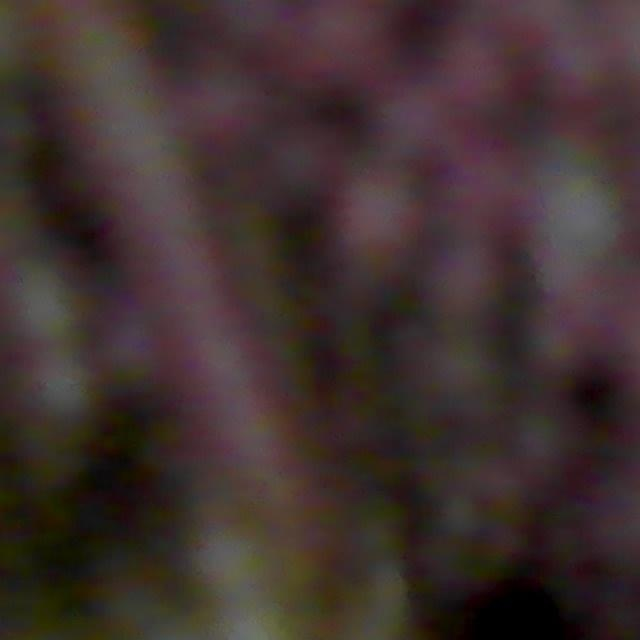SeaGrape: (335, 167, 429, 278), (2, 259, 87, 346), (440, 39, 522, 118), (319, 12, 387, 95), (24, 351, 97, 427)
